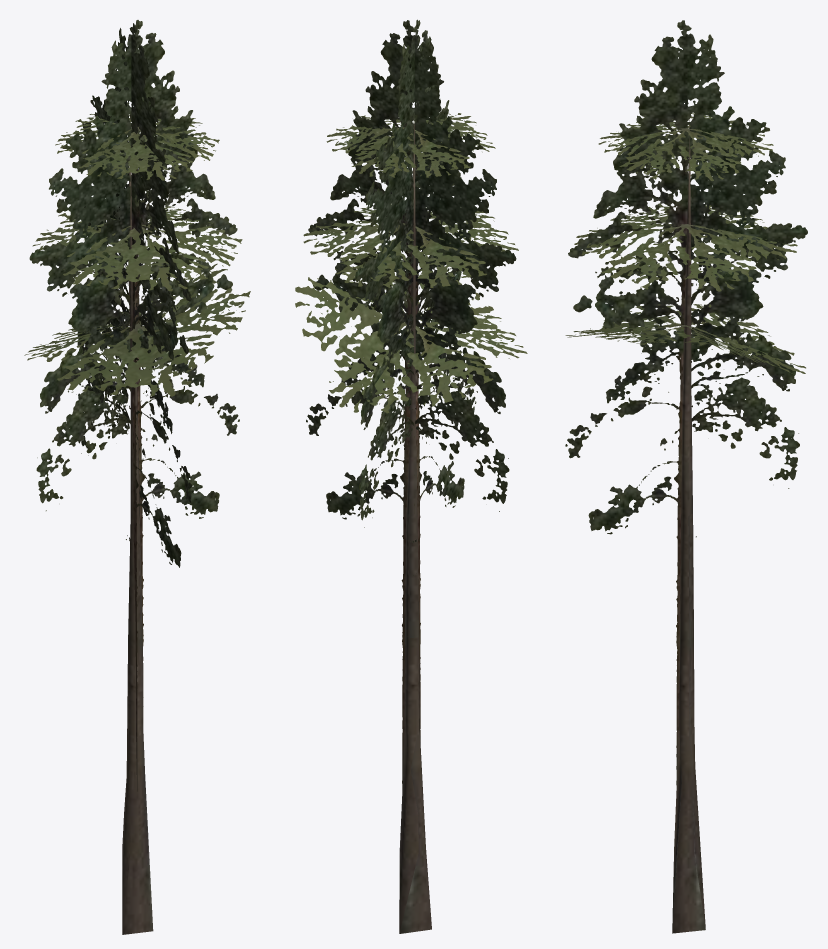
File: Background_Tree_Atlas_007_alt.glb
The picture shows the model from 3 angles, left to right: view 1: azimuth 30°, elevation 25°; view 2: azimuth 150°, elevation 25°; view 3: azimuth 270°, elevation 25°; orthographic projection.
Parts seen in each view (by area): view 1: Background_Tree_Atlas.007; view 2: Background_Tree_Atlas.007; view 3: Background_Tree_Atlas.007.
Boxes of the visible parts, x1,y1,x2,y2 form: Background_Tree_Atlas.007: (24,20,250,934); Background_Tree_Atlas.007: (295,19,527,933); Background_Tree_Atlas.007: (565,20,807,933).
Size of the model in its own units: 650 by 2601 by 652.
Materials: 1 (1 with a texture image).
